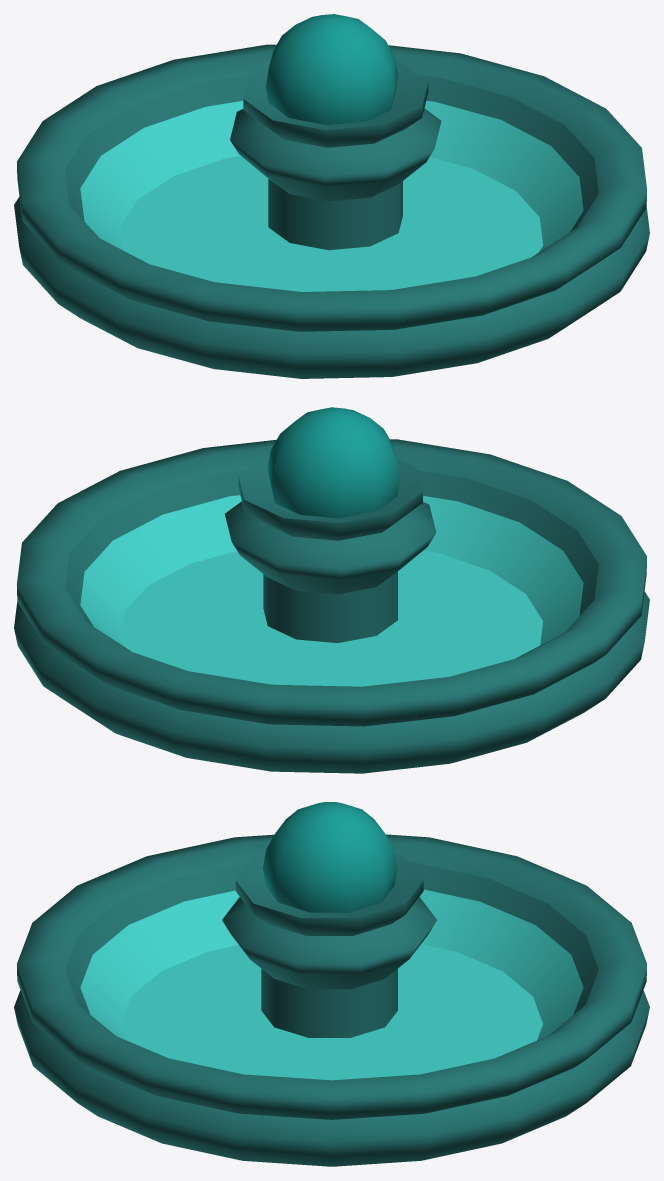
Rendered from SM_Fountain_3.fbx.
3 renders of one model, top to bottom at view 1: azimuth 30°, elevation 25°; view 2: azimuth 150°, elevation 25°; view 3: azimuth 270°, elevation 25°, orthographic.
Parts seen in each view (by area): view 1: SM_Fountain_3; view 2: SM_Fountain_3; view 3: SM_Fountain_3.
Part boxes in pixels (box(x1,y1,x2,y2)): SM_Fountain_3: box(14, 14, 649, 378); SM_Fountain_3: box(14, 407, 649, 773); SM_Fountain_3: box(14, 802, 649, 1166).
Size of the model in its own units: 824 by 338 by 824.
